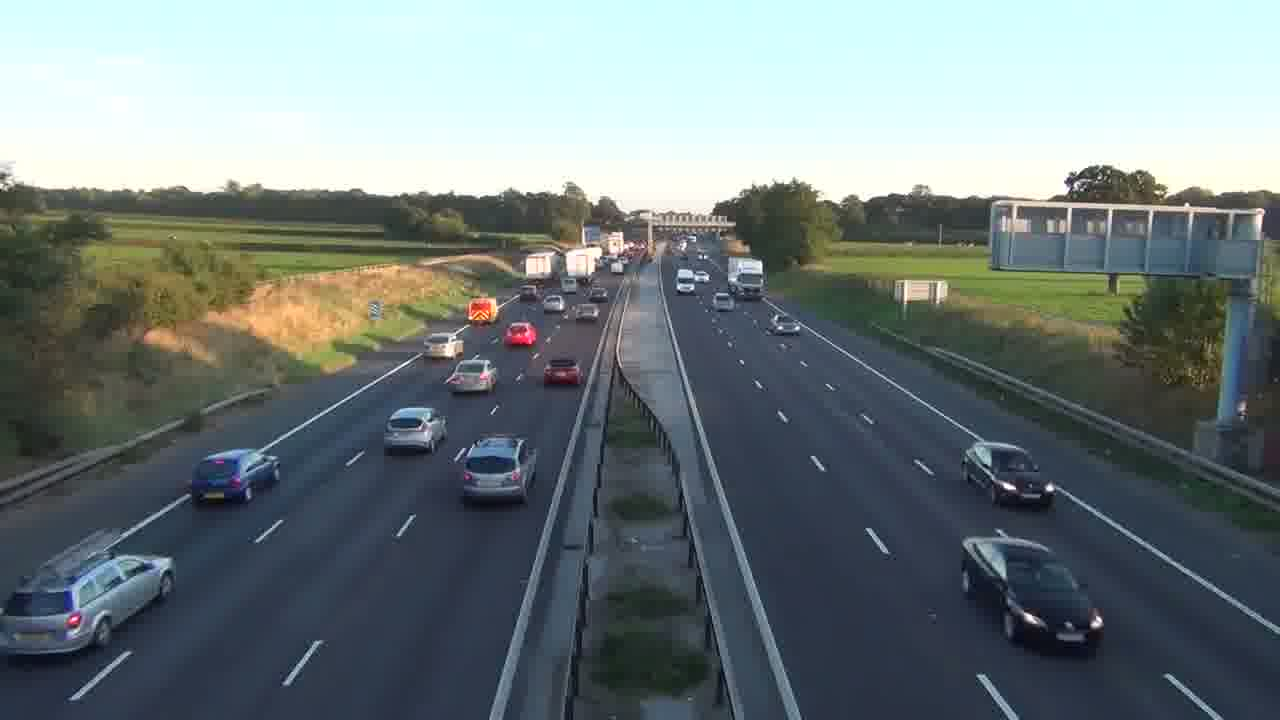car: (0, 550, 177, 659), (959, 531, 1105, 656), (960, 439, 1057, 509), (457, 435, 538, 506), (190, 447, 281, 504), (383, 405, 448, 455), (445, 357, 498, 394), (542, 357, 582, 387)
truck: (959, 531, 1105, 656), (728, 257, 767, 297)
